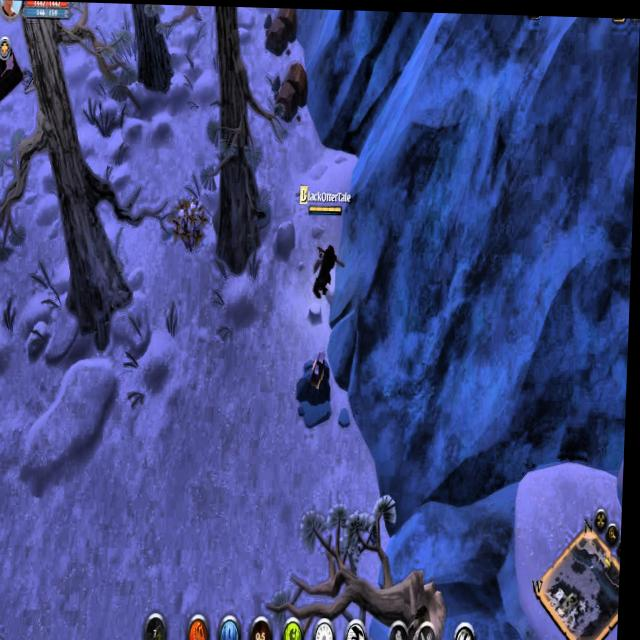copperore: (300, 343, 335, 415)
limestone: (273, 54, 309, 118), (264, 6, 298, 57)
